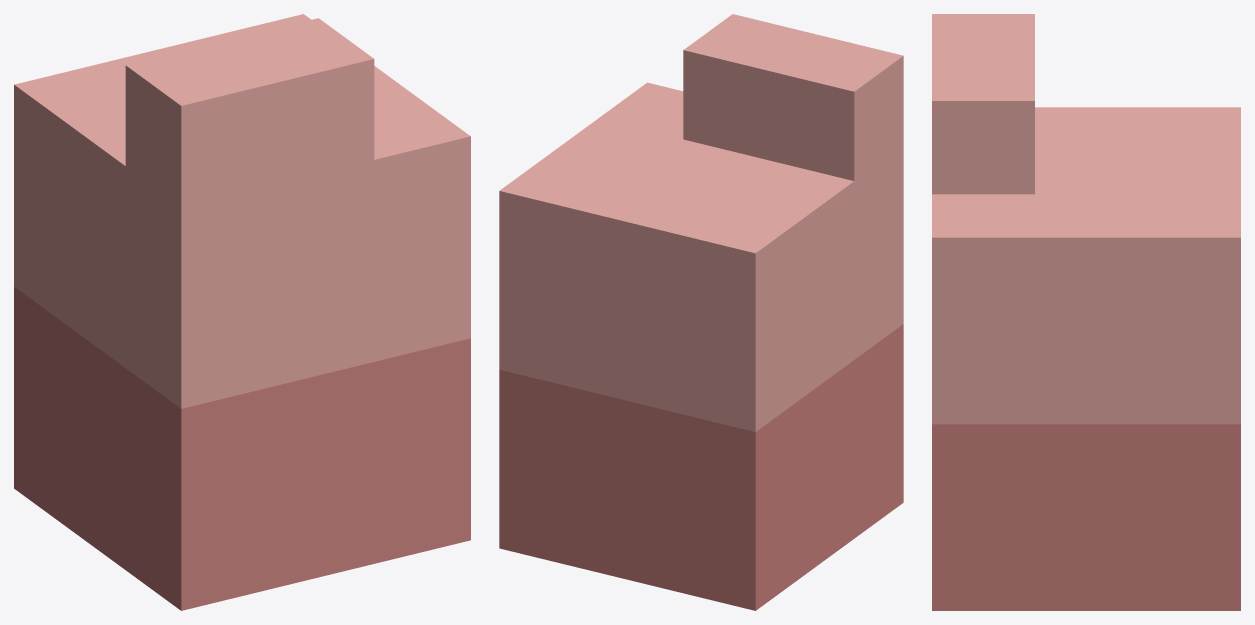
The model's file is pig__leg_fr.glb.
3 renders of one model, left to right at view 1: azimuth 30°, elevation 25°; view 2: azimuth 150°, elevation 25°; view 3: azimuth 270°, elevation 25°, orthographic. The views are drawn at different scales.
Visible parts, largest first — view 1: pig__leg_fr; view 2: pig__leg_fr; view 3: pig__leg_fr.
Boxes of the visible parts, x1,y1,x2,y2 form: pig__leg_fr: (14,14,470,610); pig__leg_fr: (499,14,903,610); pig__leg_fr: (932,14,1240,610).
Bounding box in the file's own units: 0.3 × 0.5 × 0.3.
1 material, 1 textured.
